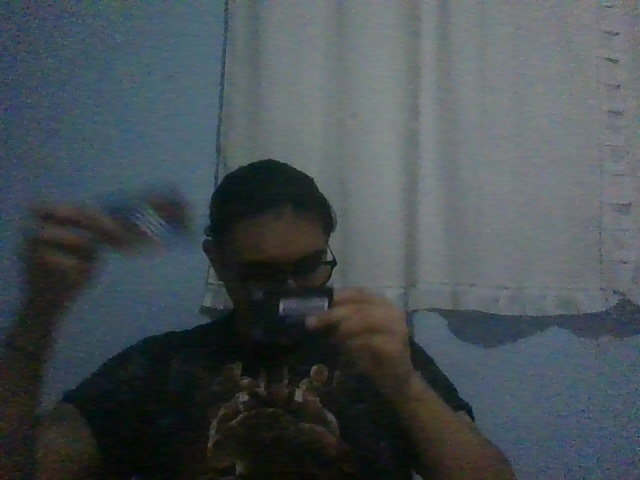tarjeta: (261, 286, 334, 343)
